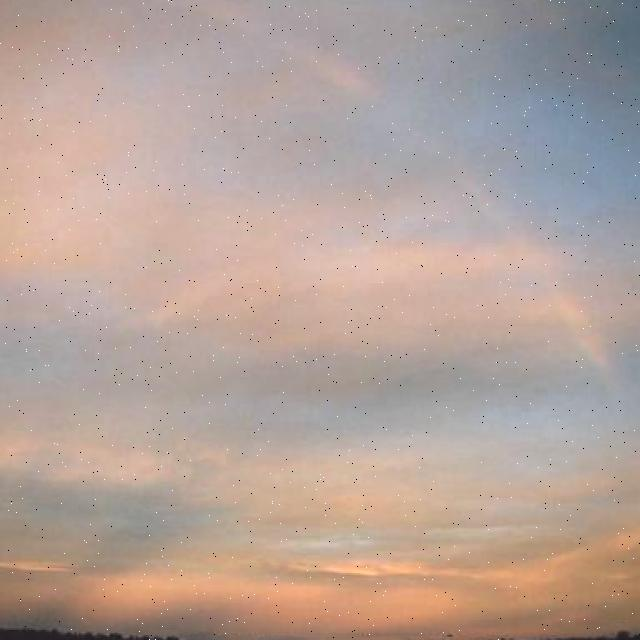As: (1, 15, 640, 588)
